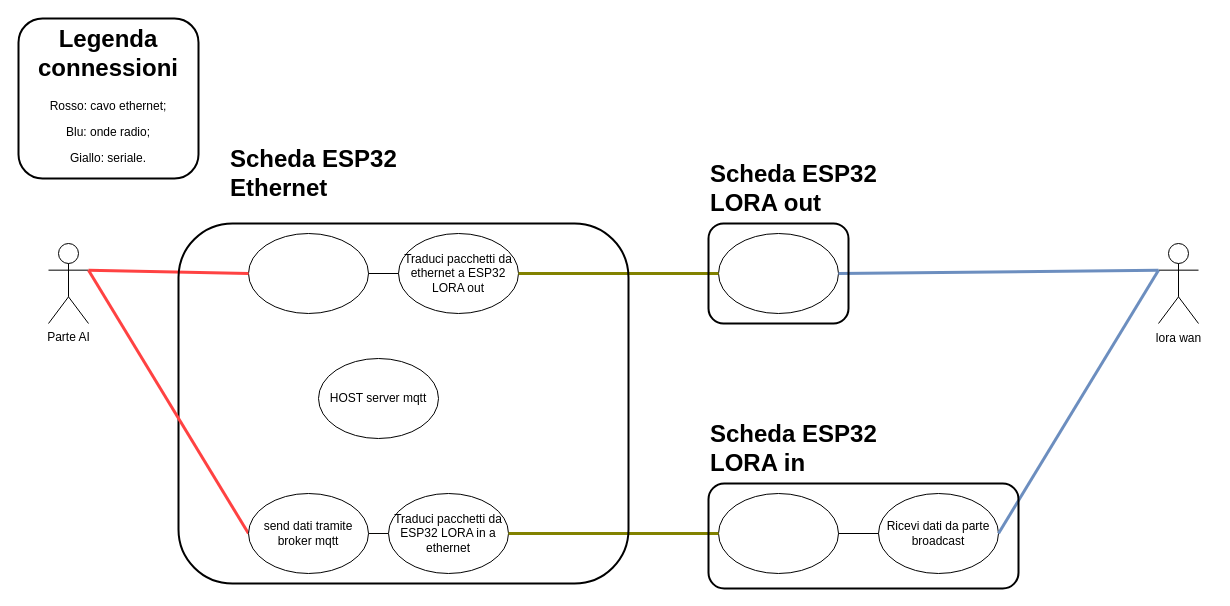
The diagram is 1230 pixels wide and 606 high, and some of its shapes have lost their labels. The centre of each missing label's shape, as x and y in pixels:
"Filtra possibili pacchetti stesso id macchina" belongs at point 778,533.
"Ricevi dati da parte AI tramite broker mqtt" belongs at point 308,273.
"Trasmetti pacchetti radio in broadcast" belongs at point 778,273.
